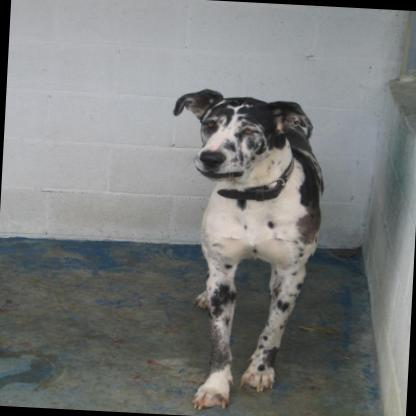Great_Dane: (156, 86, 331, 413)
